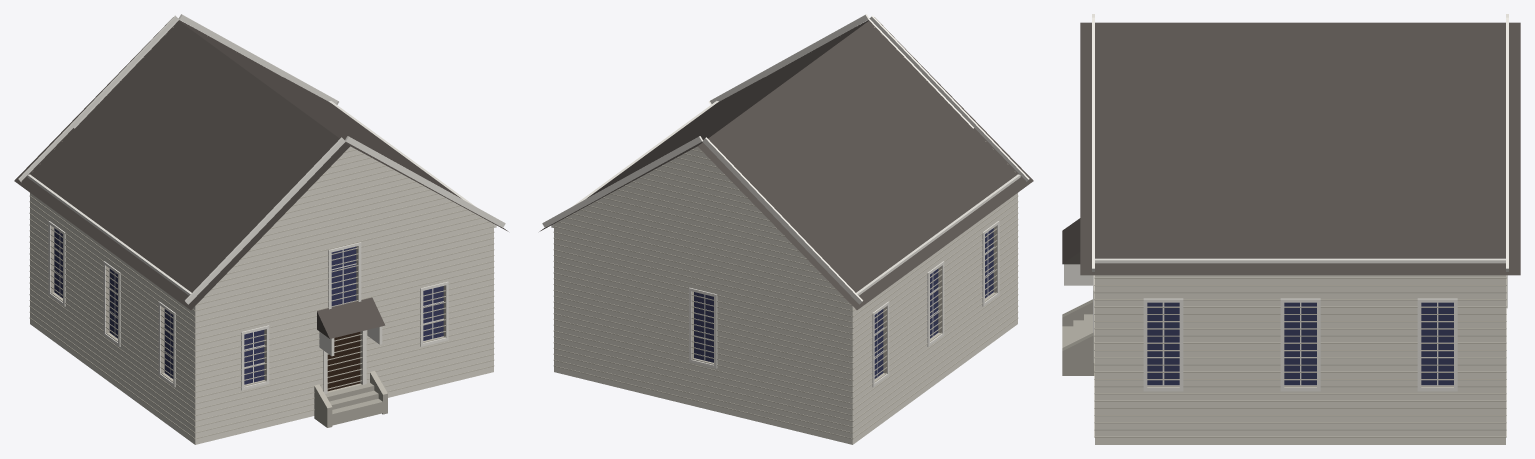
Rendered from ch-first-church-of-christ-scientist-1913.glb.
3 views of the same model, side by side, from view 1: azimuth 30°, elevation 25°; view 2: azimuth 150°, elevation 25°; view 3: azimuth 270°, elevation 25° (orthographic). The views are drawn at different scales.
Parts seen in each view (by area): view 1: ch_brick, ch_roof, ch_brick2, ch_trim, ch_stain, ch_conc, ch_roof2, ch_door; view 2: ch_brick, ch_roof, ch_brick2, ch_trim, ch_stain; view 3: ch_roof, ch_brick, ch_brick2, ch_trim, ch_stain, ch_conc, ch_roof2.
Part boxes in pixels (x1=…): ch_brick: x1=30, y1=146, x2=493, y2=444; ch_roof: x1=14, y1=17, x2=508, y2=309; ch_brick2: x1=29, y1=27, x2=494, y2=439; ch_trim: x1=18, y1=14, x2=505, y2=393; ch_stain: x1=54, y1=228, x2=443, y2=384; ch_conc: x1=314, y1=371, x2=387, y2=427; ch_roof2: x1=317, y1=297, x2=385, y2=338; ch_door: x1=327, y1=332, x2=360, y2=391; ch_brick: x1=554, y1=146, x2=1017, y2=444; ch_roof: x1=539, y1=17, x2=1033, y2=309; ch_brick2: x1=553, y1=27, x2=1018, y2=439; ch_trim: x1=542, y1=14, x2=1029, y2=387; ch_stain: x1=694, y1=228, x2=993, y2=378; ch_roof: x1=1080, y1=22, x2=1520, y2=275; ch_brick: x1=1095, y1=275, x2=1505, y2=444; ch_brick2: x1=1094, y1=275, x2=1506, y2=437; ch_trim: x1=1064, y1=14, x2=1508, y2=391; ch_stain: x1=1147, y1=302, x2=1453, y2=385; ch_conc: x1=1062, y1=299, x2=1094, y2=375; ch_roof2: x1=1062, y1=218, x2=1080, y2=264.
Size of the model in its own units: 12.69 by 10.4 by 12.64.
